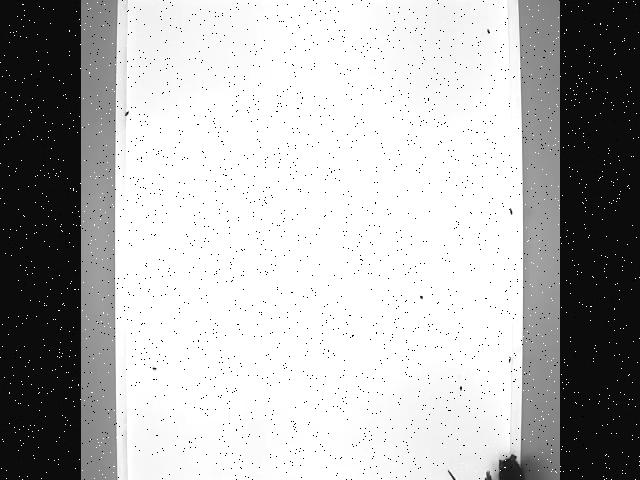Tikus: (442, 451, 530, 480)
